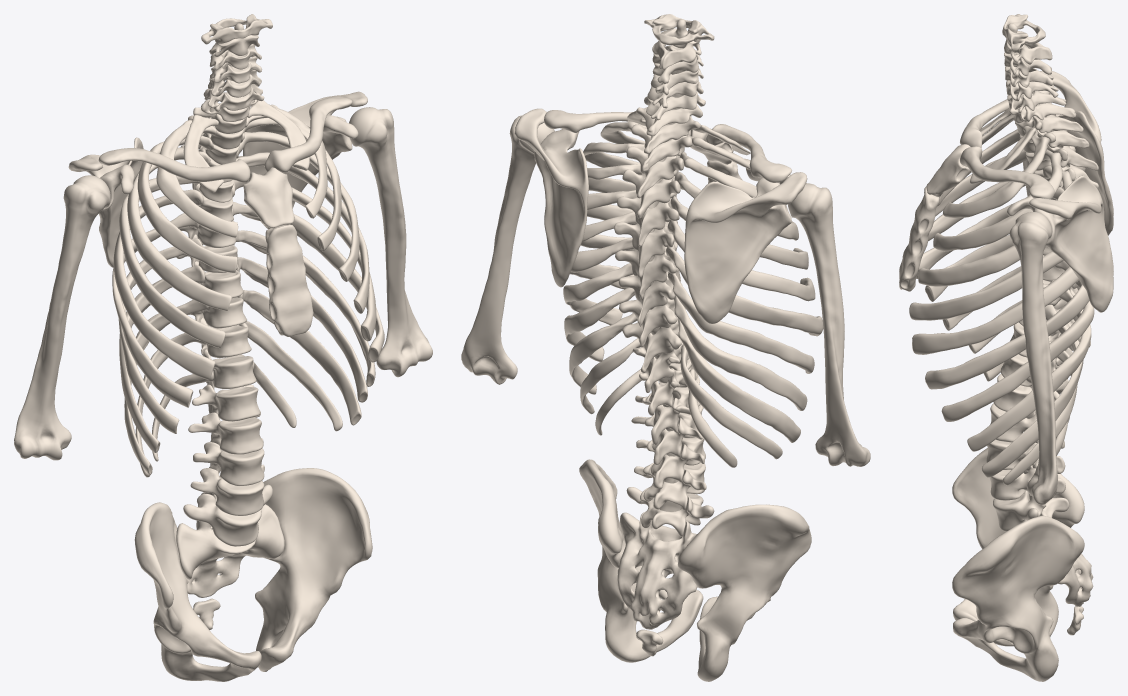
File: open3d-muscles-thorax-abdomen-skeletal-01.glb
3 views of the same model, side by side, from view 1: azimuth 30°, elevation 25°; view 2: azimuth 150°, elevation 25°; view 3: azimuth 270°, elevation 25° (orthographic). The views are drawn at different scales.
Visible parts, largest first — view 1: O3D_40fd32157ec646, O3D_529cd1e2ec44af, O3D_2dd47663fd9252, O3D_0468824c2cbc98, O3D_11991810878b71, O3D_9a2751274683b9, O3D_ae8a20d45461be, O3D_8bddca95bf4356, O3D_bdeed62ca62ce3, O3D_30160bb8ea8d43, O3D_d0e1cb2dc7975a, O3D_de2781bd871d9d (+23 smaller); view 2: O3D_40fd32157ec646, O3D_2dd47663fd9252, O3D_529cd1e2ec44af, O3D_0468824c2cbc98, O3D_5f2e3583be1966, O3D_025acb3eb4f4c3, O3D_de2781bd871d9d, O3D_8bddca95bf4356, O3D_ce73e88b02db18, O3D_bdeed62ca62ce3, O3D_ae8a20d45461be, O3D_9a2751274683b9 (+28 smaller); view 3: O3D_40fd32157ec646, O3D_2dd47663fd9252, O3D_529cd1e2ec44af, O3D_8bddca95bf4356, O3D_ae8a20d45461be, O3D_9a2751274683b9, O3D_de2781bd871d9d, O3D_11991810878b71, O3D_bdeed62ca62ce3, O3D_5f2e3583be1966, O3D_d0e1cb2dc7975a, O3D_025acb3eb4f4c3 (+24 smaller).
Boxes of the visible parts, x1,y1,x2,y2 form: O3D_40fd32157ec646: (134, 468, 372, 681); O3D_529cd1e2ec44af: (14, 107, 432, 460); O3D_2dd47663fd9252: (68, 91, 367, 267); O3D_0468824c2cbc98: (176, 504, 284, 597); O3D_11991810878b71: (127, 131, 359, 310); O3D_9a2751274683b9: (119, 152, 369, 347); O3D_ae8a20d45461be: (113, 180, 376, 379); O3D_8bddca95bf4356: (112, 202, 384, 407); O3D_bdeed62ca62ce3: (98, 96, 352, 182); O3D_30160bb8ea8d43: (265, 224, 313, 336); O3D_d0e1cb2dc7975a: (137, 118, 341, 272); O3D_de2781bd871d9d: (118, 230, 375, 433); O3D_40fd32157ec646: (579, 459, 811, 681); O3D_2dd47663fd9252: (514, 108, 807, 323); O3D_529cd1e2ec44af: (461, 115, 870, 466); O3D_0468824c2cbc98: (617, 511, 697, 629); O3D_5f2e3583be1966: (564, 287, 807, 410); O3D_025acb3eb4f4c3: (569, 313, 800, 442); O3D_de2781bd871d9d: (563, 263, 814, 373); O3D_8bddca95bf4356: (570, 238, 823, 336); O3D_ce73e88b02db18: (580, 338, 782, 459); O3D_bdeed62ca62ce3: (544, 110, 791, 182); O3D_ae8a20d45461be: (580, 211, 815, 301); O3D_9a2751274683b9: (587, 190, 808, 269); O3D_40fd32157ec646: (952, 448, 1084, 681); O3D_2dd47663fd9252: (1007, 71, 1113, 312); O3D_529cd1e2ec44af: (1009, 93, 1057, 504); O3D_8bddca95bf4356: (925, 235, 1089, 389); O3D_ae8a20d45461be: (912, 204, 1078, 354); O3D_9a2751274683b9: (909, 166, 1085, 320); O3D_de2781bd871d9d: (941, 261, 1094, 421); O3D_11991810878b71: (918, 146, 1075, 286); O3D_bdeed62ca62ce3: (960, 82, 1054, 199); O3D_5f2e3583be1966: (967, 280, 1091, 451); O3D_d0e1cb2dc7975a: (933, 115, 1062, 251); O3D_025acb3eb4f4c3: (982, 304, 1083, 477).
Size of the model in its own units: 0.4958 by 0.7545 by 0.2295.
